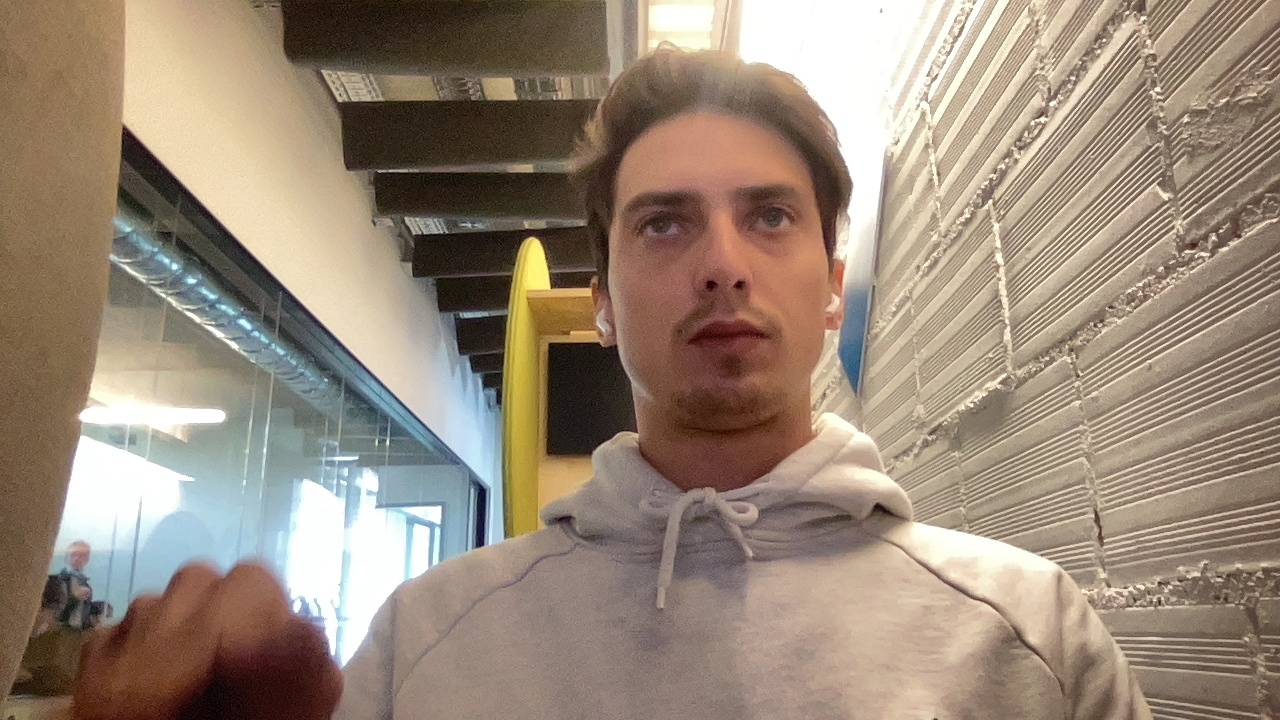no: (30, 553, 370, 717)
